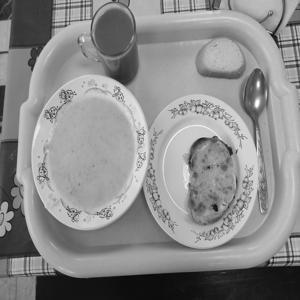bread: (185, 27, 251, 87)
cheese_sandwich: (181, 132, 246, 223)
coffee: (78, 1, 152, 86)
porridge: (31, 81, 153, 230)
